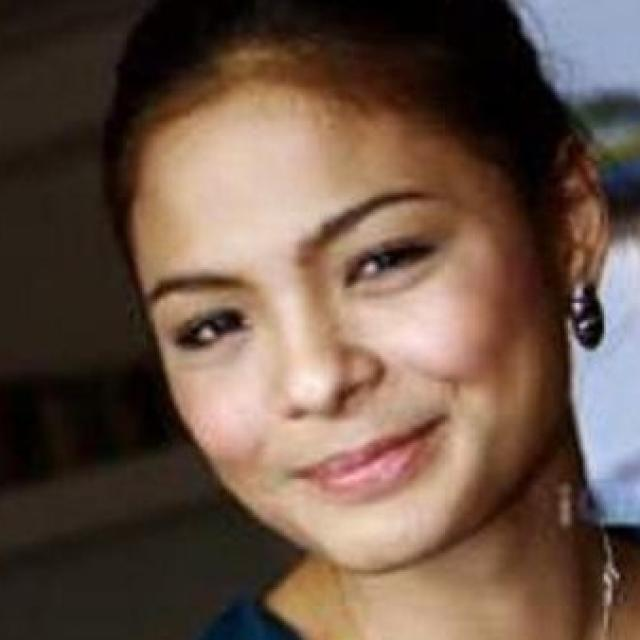Normal: (131, 46, 573, 578)
